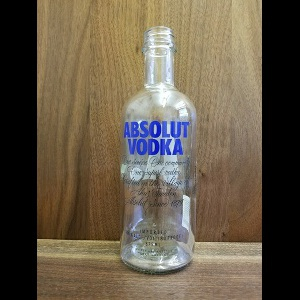emptybottle: (120, 26, 197, 275)
